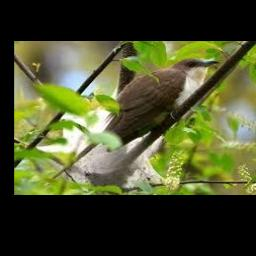Cuckoo: (52, 58, 220, 179)
